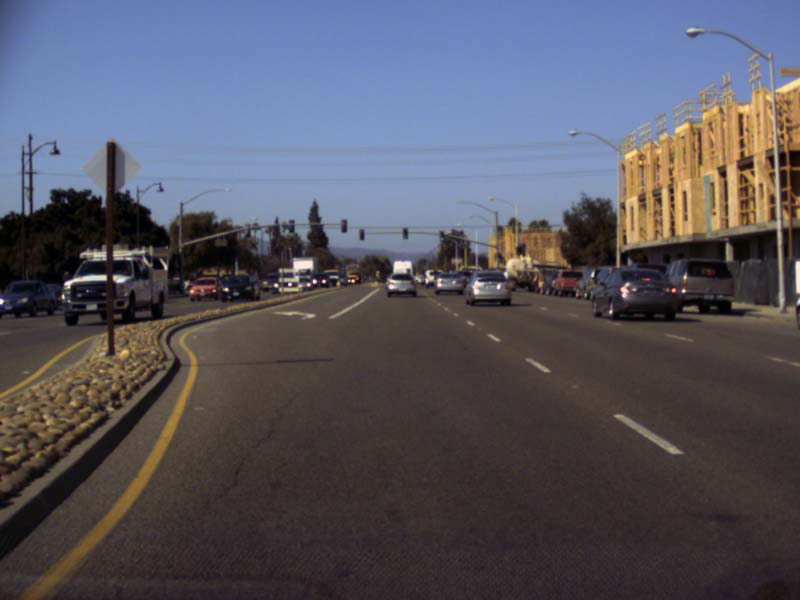Green: (402, 228, 407, 238), (440, 232, 443, 240), (517, 246, 520, 254), (497, 254, 500, 261)
Red: (359, 230, 363, 239)
